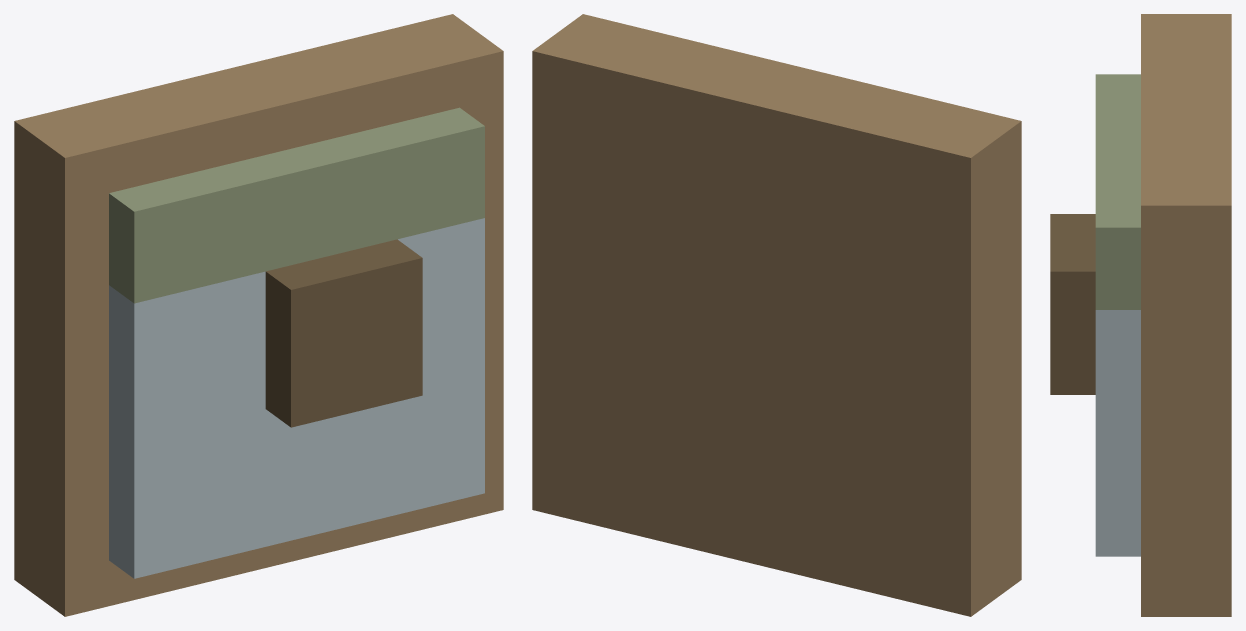
Rendered from cuadro_retrato_marco_roble_01.glb.
The picture shows the model from 3 angles, left to right: view 1: azimuth 30°, elevation 25°; view 2: azimuth 150°, elevation 25°; view 3: azimuth 270°, elevation 25°; orthographic projection. The views are drawn at different scales.
Parts seen in each view (by area): view 1: cuadro_retrato_marco_roble; view 2: cuadro_retrato_marco_roble; view 3: cuadro_retrato_marco_roble.
Boxes of the visible parts, bbox=[...] form: cuadro_retrato_marco_roble: bbox=[14, 14, 503, 616]; cuadro_retrato_marco_roble: bbox=[532, 14, 1021, 616]; cuadro_retrato_marco_roble: bbox=[1050, 14, 1231, 616].
Size of the model in its own units: 1 by 1 by 0.4.
